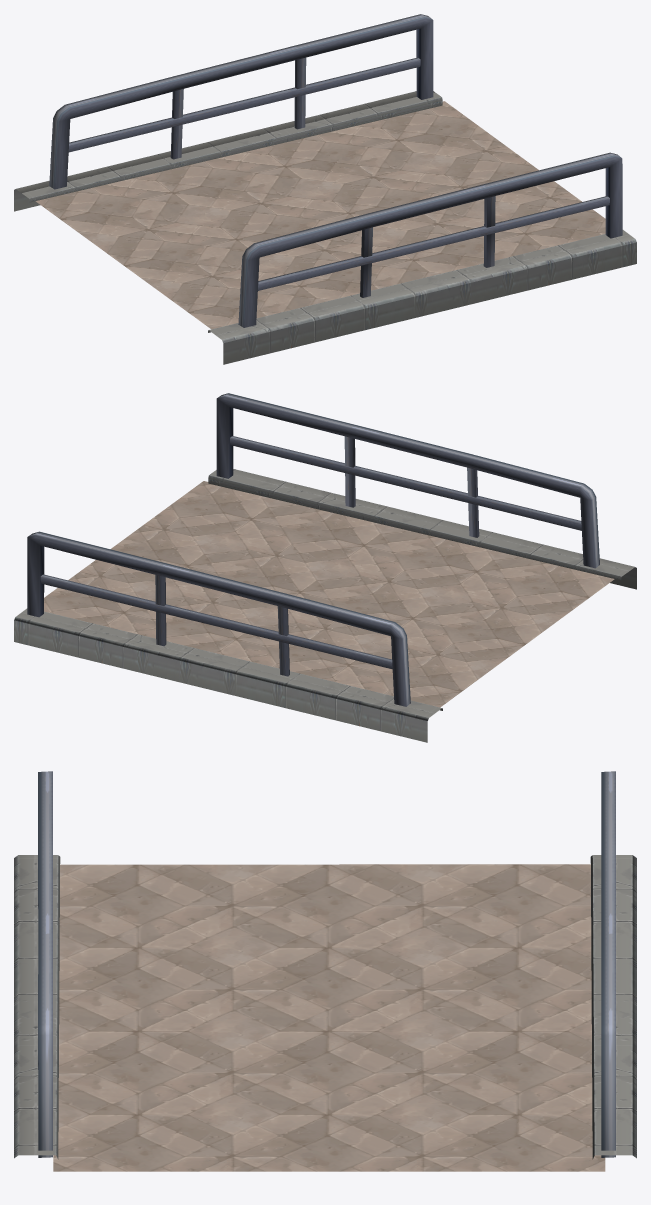
File: wenquan_db_09.FBX
3 renders of one model, top to bottom at view 1: azimuth 30°, elevation 25°; view 2: azimuth 150°, elevation 25°; view 3: azimuth 270°, elevation 25°, orthographic. The views are drawn at different scales.
Parts seen in each view (by area): view 1: wenquan_db_09; view 2: wenquan_db_09; view 3: wenquan_db_09.
Part boxes in pixels (<box>): wenquan_db_09: <box>14,14,636,364</box>; wenquan_db_09: <box>14,393,636,742</box>; wenquan_db_09: <box>14,771,636,1171</box>.
Size of the model in its own units: 447 by 107 by 386.
